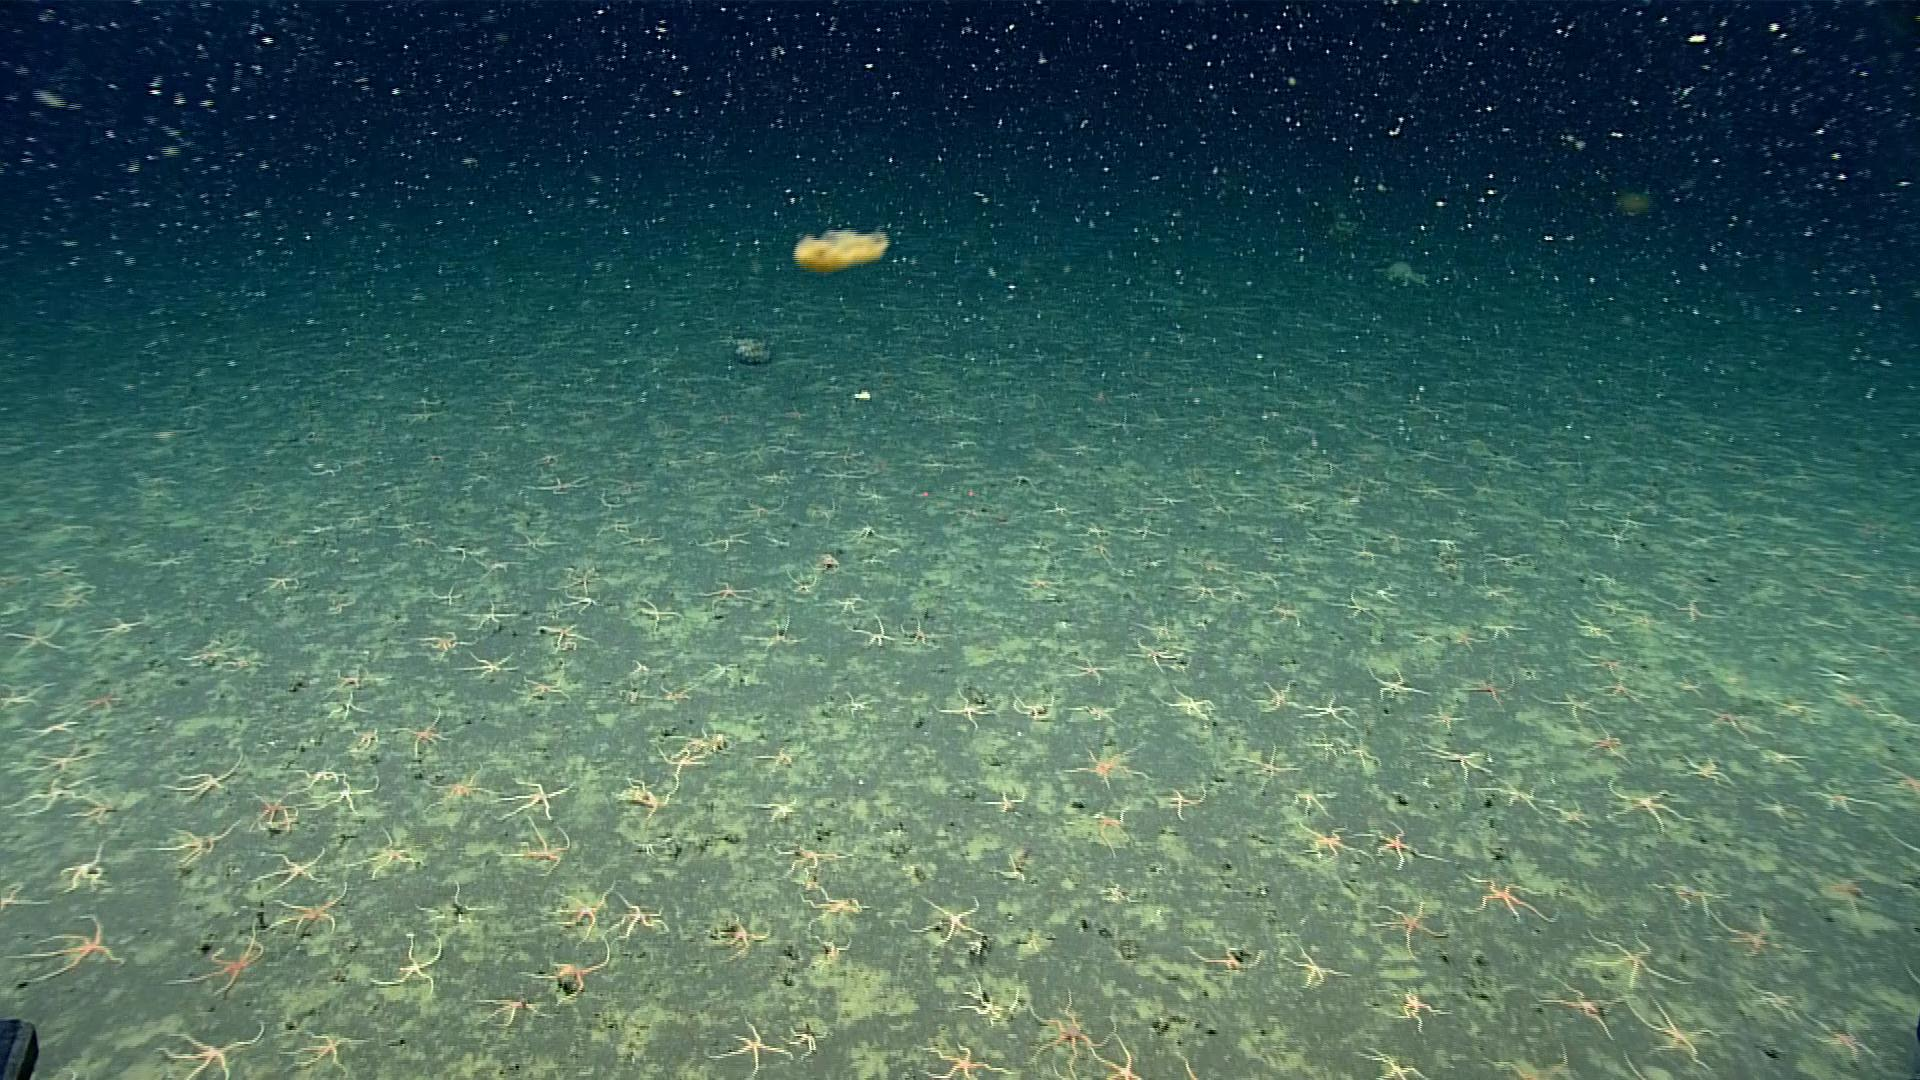brittle_sea_star: (4, 911, 123, 982), (1023, 988, 1116, 1071), (164, 919, 264, 994), (1589, 928, 1693, 997), (157, 1017, 268, 1079), (1629, 993, 1713, 1073), (1539, 975, 1627, 1042), (703, 1017, 795, 1079), (1709, 914, 1808, 967), (525, 945, 613, 1002), (146, 816, 240, 869), (3, 774, 103, 823), (343, 828, 434, 880), (1600, 781, 1691, 831), (1367, 901, 1445, 959), (534, 880, 605, 942), (1466, 877, 1555, 926), (372, 932, 443, 989), (909, 891, 985, 944), (266, 887, 345, 936), (501, 818, 570, 872), (413, 880, 489, 927), (285, 1029, 368, 1072), (382, 709, 458, 757), (160, 760, 245, 800), (919, 1040, 1010, 1079), (603, 891, 669, 944), (493, 775, 572, 819), (1284, 947, 1349, 1000), (1478, 773, 1552, 819), (1807, 1018, 1878, 1065), (1422, 740, 1494, 786), (1062, 749, 1142, 790), (413, 767, 488, 810), (766, 836, 849, 873), (256, 845, 328, 887), (1386, 988, 1452, 1034), (1290, 822, 1360, 865), (1369, 829, 1443, 870), (1655, 877, 1731, 915), (307, 775, 380, 815), (957, 978, 1017, 1025), (709, 919, 771, 963), (7, 746, 95, 777), (1185, 943, 1266, 976), (1234, 745, 1299, 786), (58, 847, 113, 894), (802, 886, 870, 924), (1092, 1033, 1149, 1079), (938, 688, 998, 731), (473, 989, 547, 1023), (1702, 707, 1768, 745), (1084, 806, 1133, 857), (622, 778, 676, 824), (1246, 679, 1313, 715), (1573, 724, 1630, 766), (699, 576, 762, 613), (1366, 667, 1427, 705), (458, 597, 522, 633), (1801, 783, 1874, 815), (452, 649, 518, 682), (9, 617, 66, 655), (244, 790, 297, 829), (410, 628, 473, 661), (1360, 1047, 1425, 1079), (746, 617, 807, 651), (1750, 984, 1799, 1025), (1453, 673, 1511, 707), (1538, 692, 1606, 721), (1821, 874, 1871, 914), (622, 596, 679, 629), (1135, 608, 1192, 641), (516, 670, 567, 705), (1159, 688, 1215, 721), (1158, 789, 1209, 823), (1126, 638, 1175, 674), (853, 616, 898, 653), (653, 745, 709, 774), (1288, 785, 1340, 816), (670, 727, 731, 753), (533, 622, 589, 650), (1309, 695, 1364, 724), (1006, 568, 1065, 595), (1164, 578, 1225, 603), (1683, 754, 1730, 786), (1336, 538, 1387, 567), (92, 615, 145, 642), (895, 620, 945, 649), (558, 587, 608, 616), (1067, 655, 1114, 686), (1585, 645, 1627, 678), (320, 691, 368, 720), (785, 1022, 828, 1054), (18, 717, 83, 738), (1065, 539, 1117, 566), (1262, 595, 1303, 628), (0, 881, 46, 910), (73, 794, 125, 819), (1337, 593, 1381, 624), (1067, 518, 1113, 546), (1344, 745, 1383, 777), (1668, 596, 1716, 622), (1065, 702, 1121, 724), (1013, 695, 1055, 724), (295, 765, 344, 790), (517, 477, 583, 496), (1415, 709, 1468, 732), (703, 527, 746, 554), (175, 641, 220, 666), (831, 690, 869, 717), (1552, 804, 1592, 831), (1472, 583, 1518, 605), (1883, 765, 1919, 794), (318, 667, 367, 688), (1364, 578, 1400, 605), (848, 521, 886, 547), (1880, 711, 1919, 737), (653, 683, 698, 705), (982, 794, 1030, 815), (1756, 749, 1807, 769), (468, 556, 521, 575), (729, 498, 786, 516), (818, 936, 852, 964), (1776, 696, 1816, 720), (1753, 798, 1793, 820), (1125, 520, 1164, 542), (80, 692, 120, 715), (831, 592, 872, 613), (1145, 487, 1185, 508), (1604, 680, 1642, 703), (1441, 630, 1477, 654), (1482, 550, 1527, 568), (1484, 622, 1531, 640), (808, 547, 843, 571), (1311, 736, 1341, 762), (786, 570, 816, 596), (348, 725, 380, 750), (758, 800, 798, 820), (1801, 611, 1841, 630), (218, 650, 255, 671), (144, 553, 191, 568), (261, 572, 301, 591), (761, 746, 795, 767), (1001, 857, 1027, 884), (559, 568, 592, 589), (430, 542, 477, 556), (1672, 675, 1702, 698), (852, 487, 891, 504), (1276, 496, 1319, 512), (1597, 531, 1635, 549), (629, 657, 657, 679), (1896, 827, 1919, 851), (431, 584, 459, 603), (617, 686, 642, 705), (601, 520, 634, 533), (1048, 501, 1069, 516)
